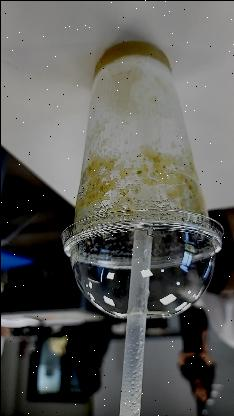Others: (57, 39, 225, 321), (57, 207, 222, 318), (116, 223, 158, 416)
